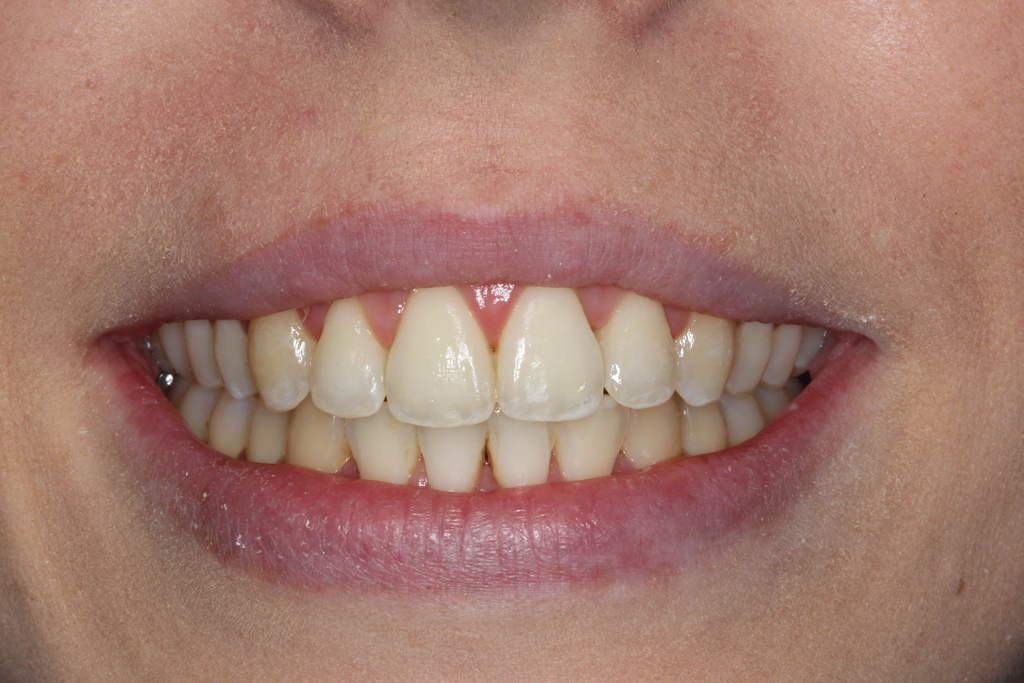LL1BC_healthy: (681, 410, 725, 453)
LL1M_healthy: (764, 387, 786, 414)
LL2BC_healthy: (728, 397, 761, 442)
LLCI_healthy: (491, 423, 548, 487)
LLC_healthy: (626, 409, 678, 466)
LLLI_healthy: (559, 417, 618, 476)
LR1BC_healthy: (250, 415, 286, 461)
LR1M_healthy: (182, 399, 204, 429)
LR2BC_healthy: (208, 400, 246, 454)
LRCI_healthy: (419, 426, 483, 487)
LRC_healthy: (290, 409, 342, 469)
LRLI_healthy: (343, 419, 413, 478)
UL1BC_healthy: (738, 322, 766, 391)
UL2BC_healthy: (770, 322, 797, 387)
ULCI_mdecay: (497, 285, 602, 417)
ULC_mdecay: (677, 314, 729, 406)
ULLI_mdecay: (603, 293, 674, 409)
UR1BC_mdecay: (212, 318, 251, 400)
UR1M_mdecay: (162, 323, 187, 376)
UR2BC_mdecay: (187, 321, 212, 390)
URCI_mdecay: (385, 287, 493, 424)
URC_mdecay: (250, 315, 312, 410)
URLI_mdecay: (312, 301, 385, 417)
